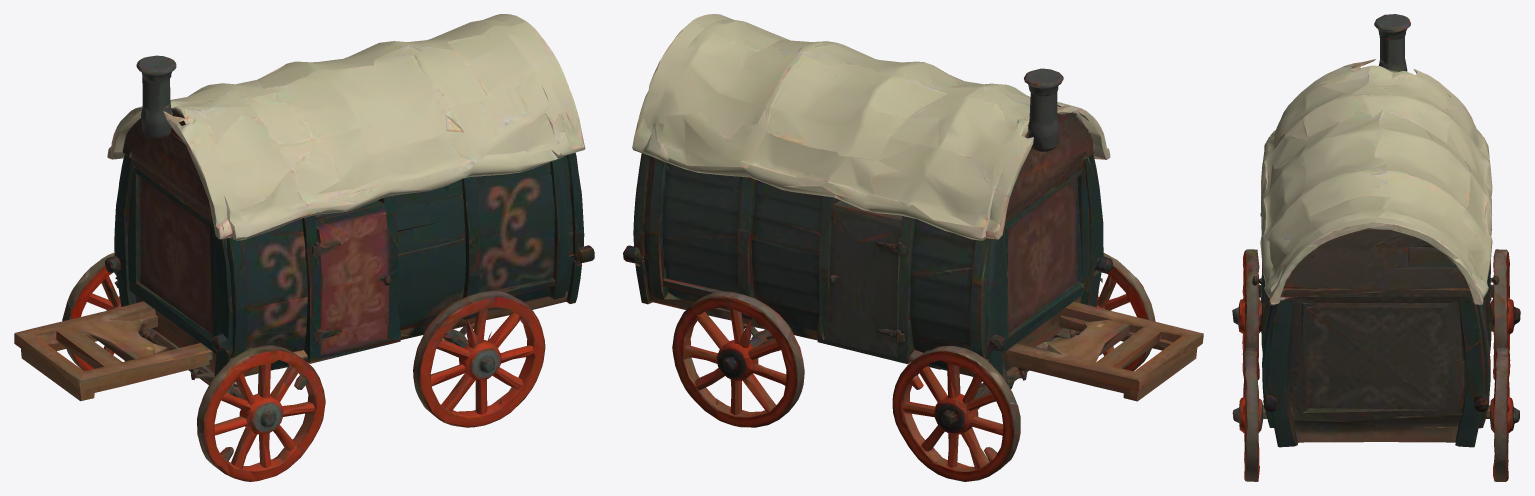
The model's file is caravane-roulotte.glb.
The picture shows the model from 3 angles, left to right: view 1: azimuth 30°, elevation 25°; view 2: azimuth 150°, elevation 25°; view 3: azimuth 270°, elevation 25°; orthographic projection. The views are drawn at different scales.
Visible parts, largest first — view 1: mesh_node; view 2: mesh_node; view 3: mesh_node.
Boxes of the visible parts, x1,y1,x2,y2 form: mesh_node: (14, 14, 594, 481); mesh_node: (623, 14, 1203, 481); mesh_node: (1232, 14, 1520, 481).
Size of the model in its own units: 1.89 by 1.35 by 1.03.
1 material, 1 textured.
